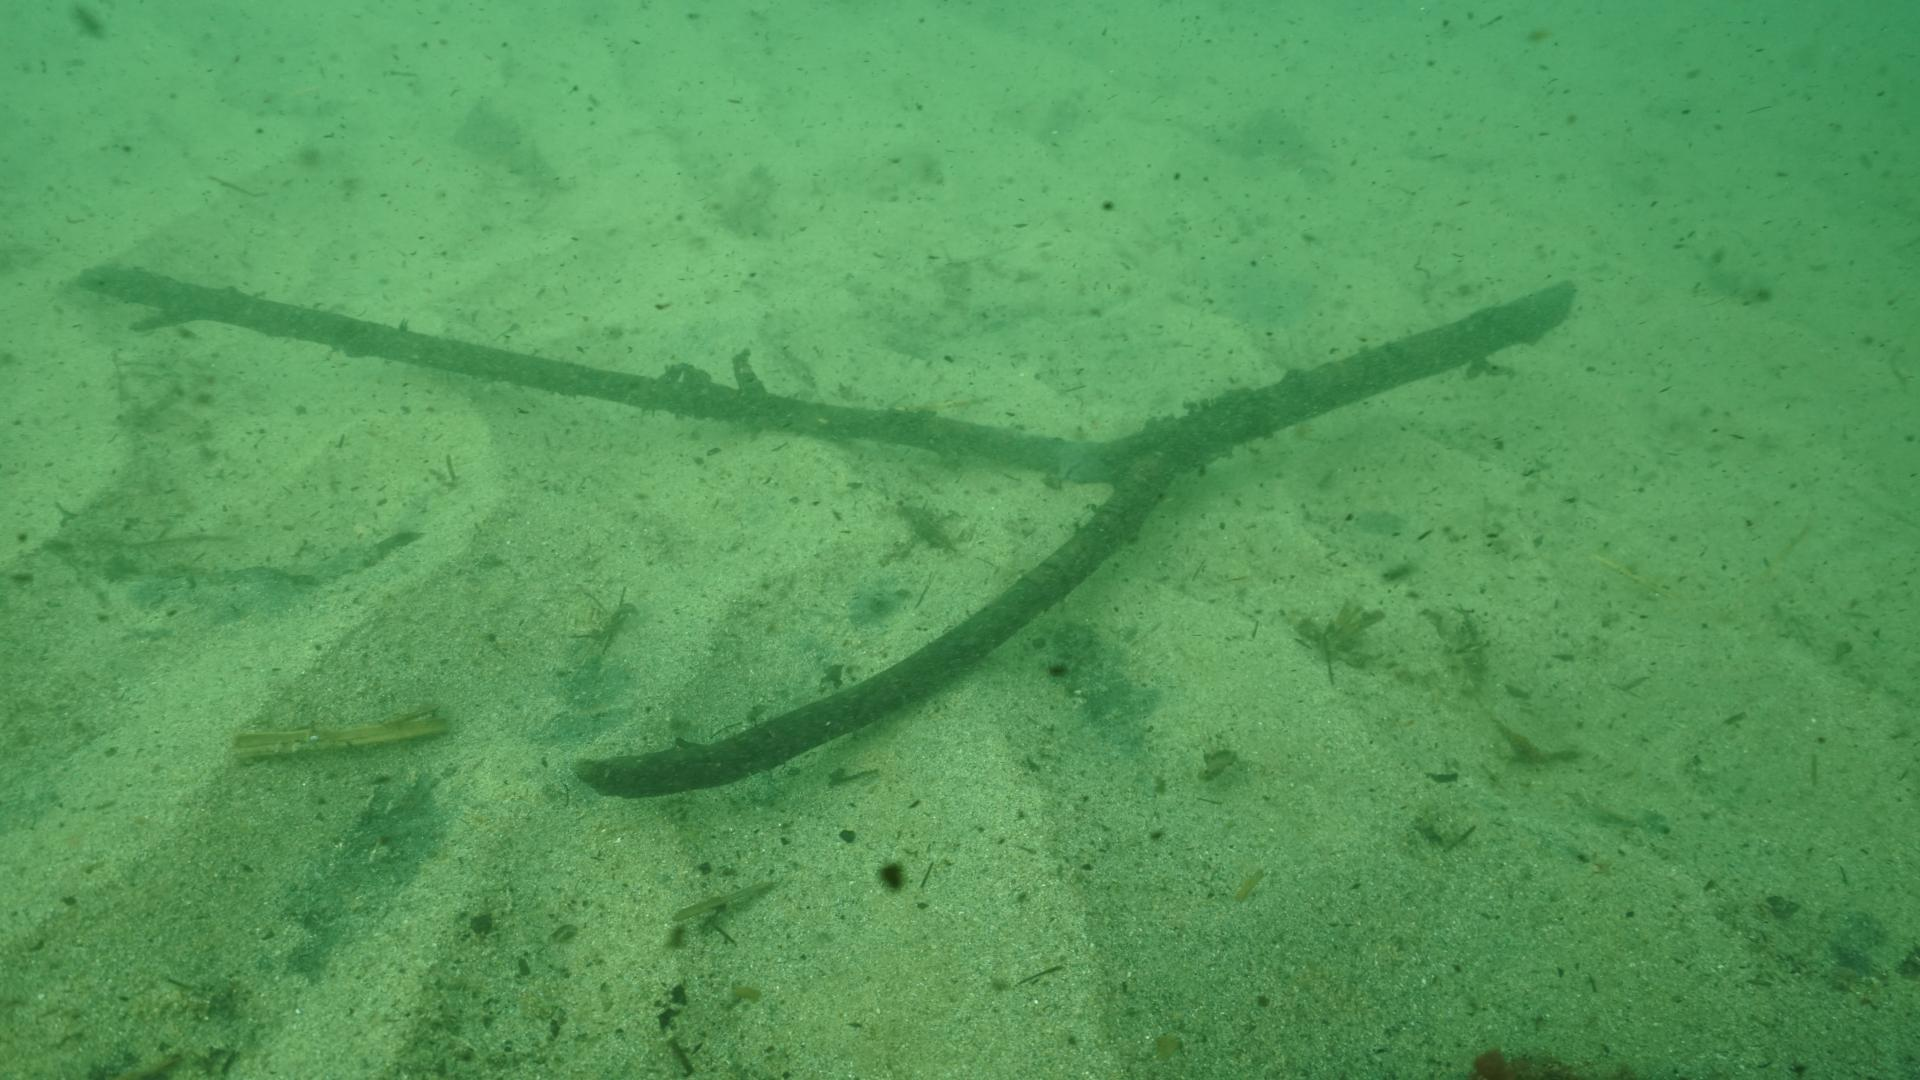wood: (75, 262, 1573, 794)
